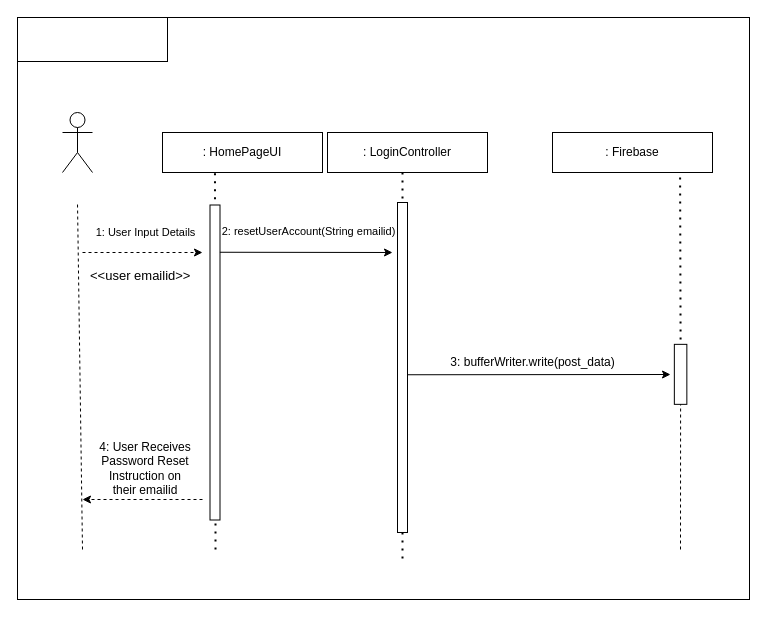
Image size: 767x617. Some labels were removed from this diagram. The centre of each missing label's shape, as x and y in pixels:
"sd User LogOut" goes at point (92, 39).
"User" goes at point (77, 142).
